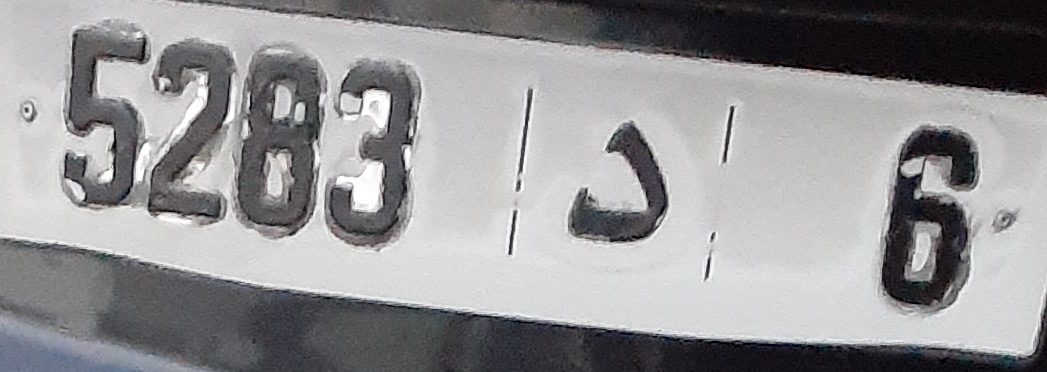2: (143, 40, 237, 230)
3: (326, 56, 426, 256)
5: (54, 22, 153, 215)
6: (875, 114, 984, 319)
8: (233, 36, 320, 242)
d: (558, 109, 675, 255)
